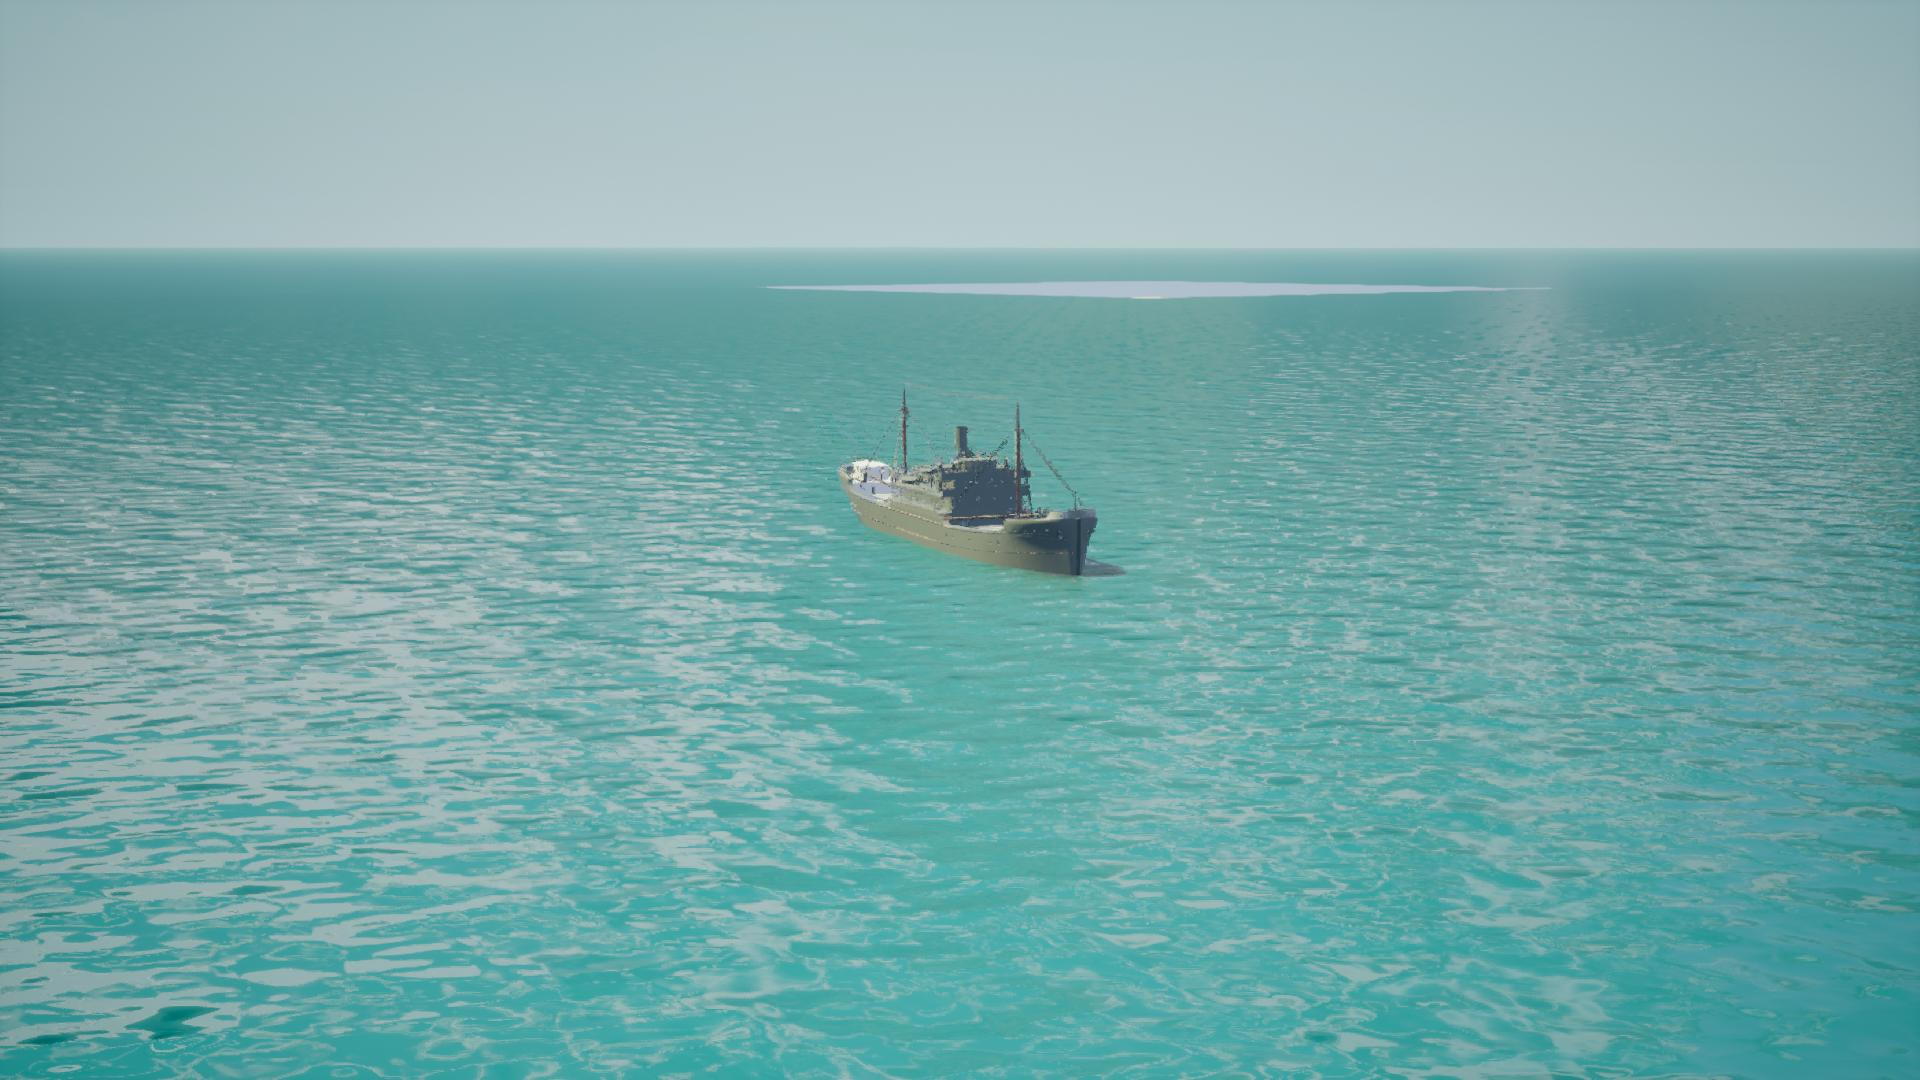Fishing Boat: (835, 390, 1105, 579)
